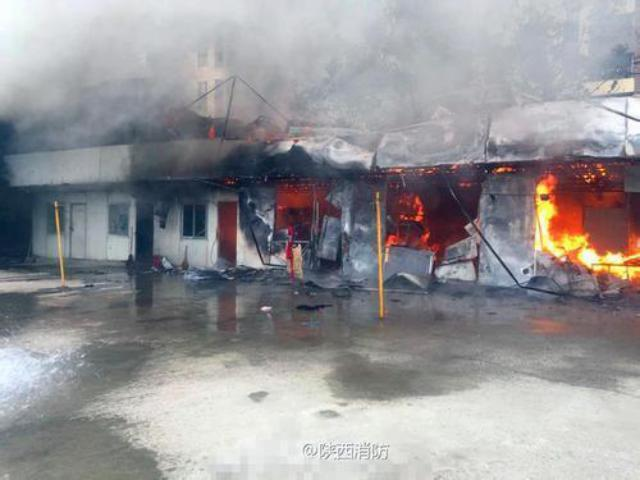fire: (580, 248, 638, 278), (532, 173, 552, 253), (550, 228, 588, 253), (398, 192, 424, 220), (412, 230, 436, 246), (384, 231, 406, 245)
